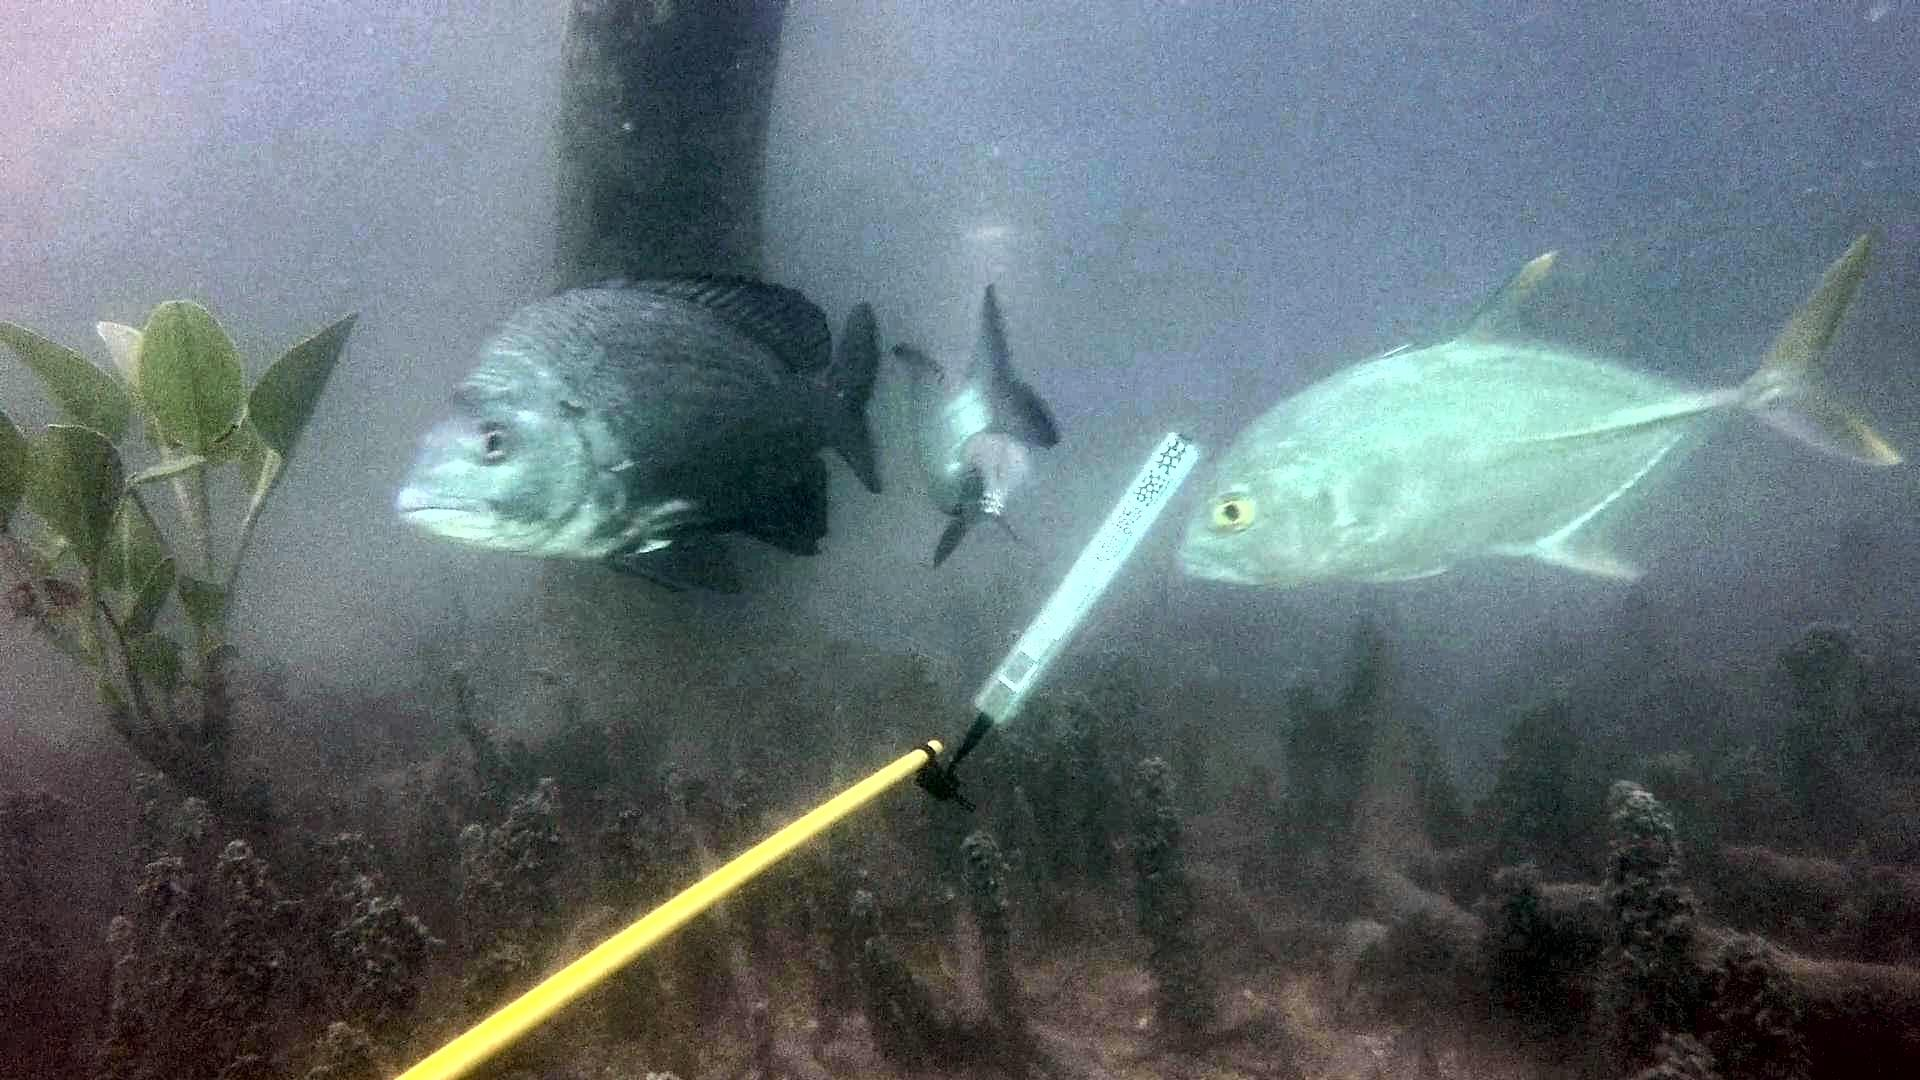acanthopagrus palmaris: (383, 238, 891, 607), (893, 263, 1079, 594)
caranx: (1175, 223, 1920, 613)
